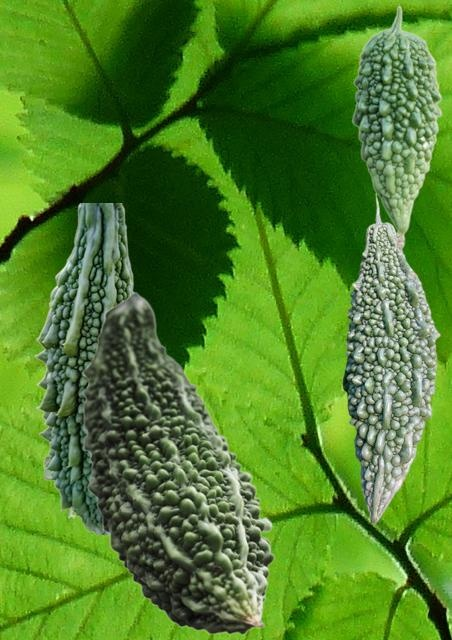ampalaya: (82, 291, 274, 634), (34, 203, 134, 533), (342, 194, 439, 523), (351, 5, 441, 252)
